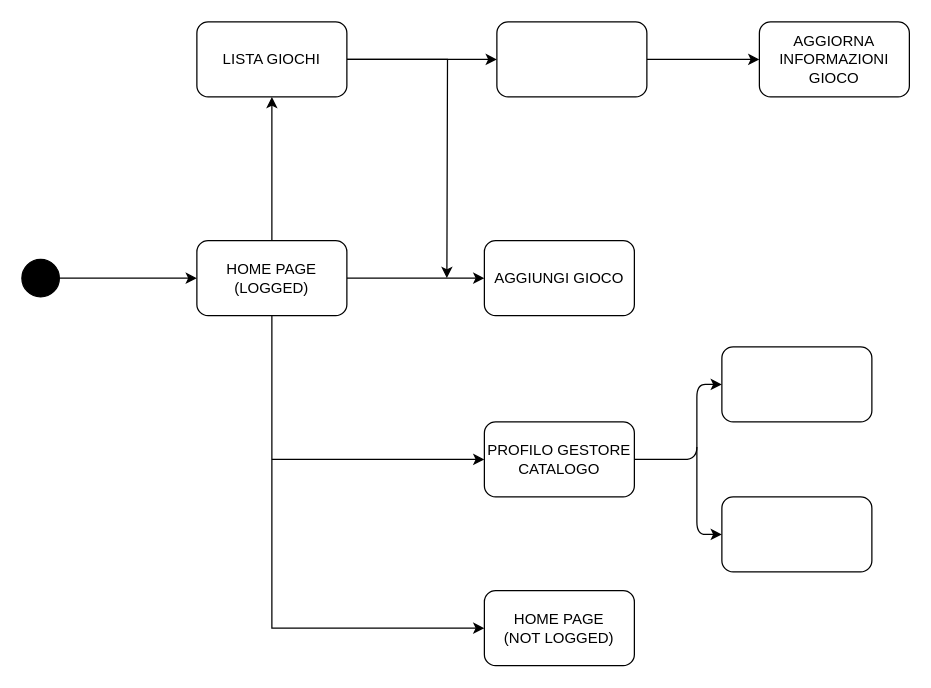
The diagram is 931 pixels wide and 688 high, and some of its shapes have lost their labels. The shapes that lost their labels are listed below. From the top down, each one's box as (x1, y1, x2, y2) in pixels, then its label:
(496, 21, 647, 97): PAGINA GIOCO
(721, 346, 872, 422): PAGINA RICHIESTE
(721, 496, 872, 572): CAMBIA PASSWORD
